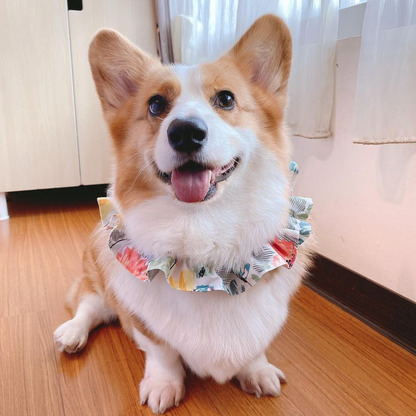Corgi: (64, 11, 333, 398)
